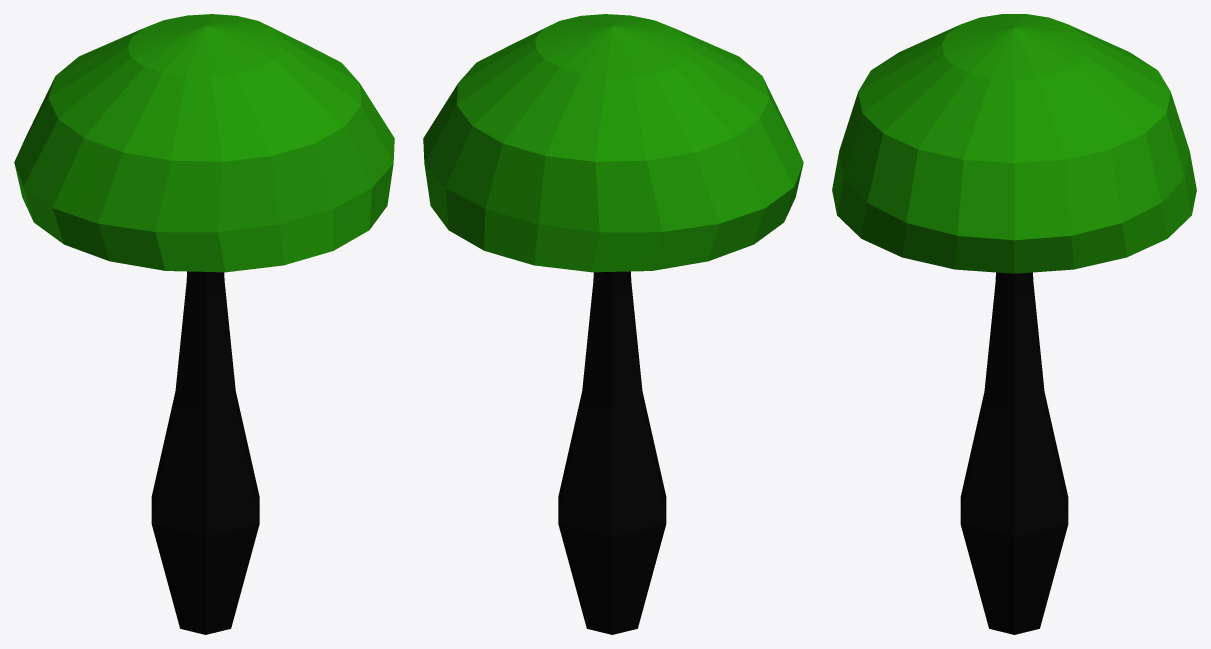
File: Mushroom01_KW.fbx
3 renders of one model, left to right at view 1: azimuth 30°, elevation 25°; view 2: azimuth 150°, elevation 25°; view 3: azimuth 270°, elevation 25°, orthographic.
Visible parts, largest first — view 1: Mushroom01_KW; view 2: Mushroom01_KW; view 3: Mushroom01_KW.
Boxes of the visible parts, left/top/right/bottom form: Mushroom01_KW: left=14, top=14, right=394, bottom=634; Mushroom01_KW: left=423, top=14, right=803, bottom=634; Mushroom01_KW: left=832, top=14, right=1196, bottom=634.
Bounding box in the file's own units: 20.31 × 34.32 × 19.08.
